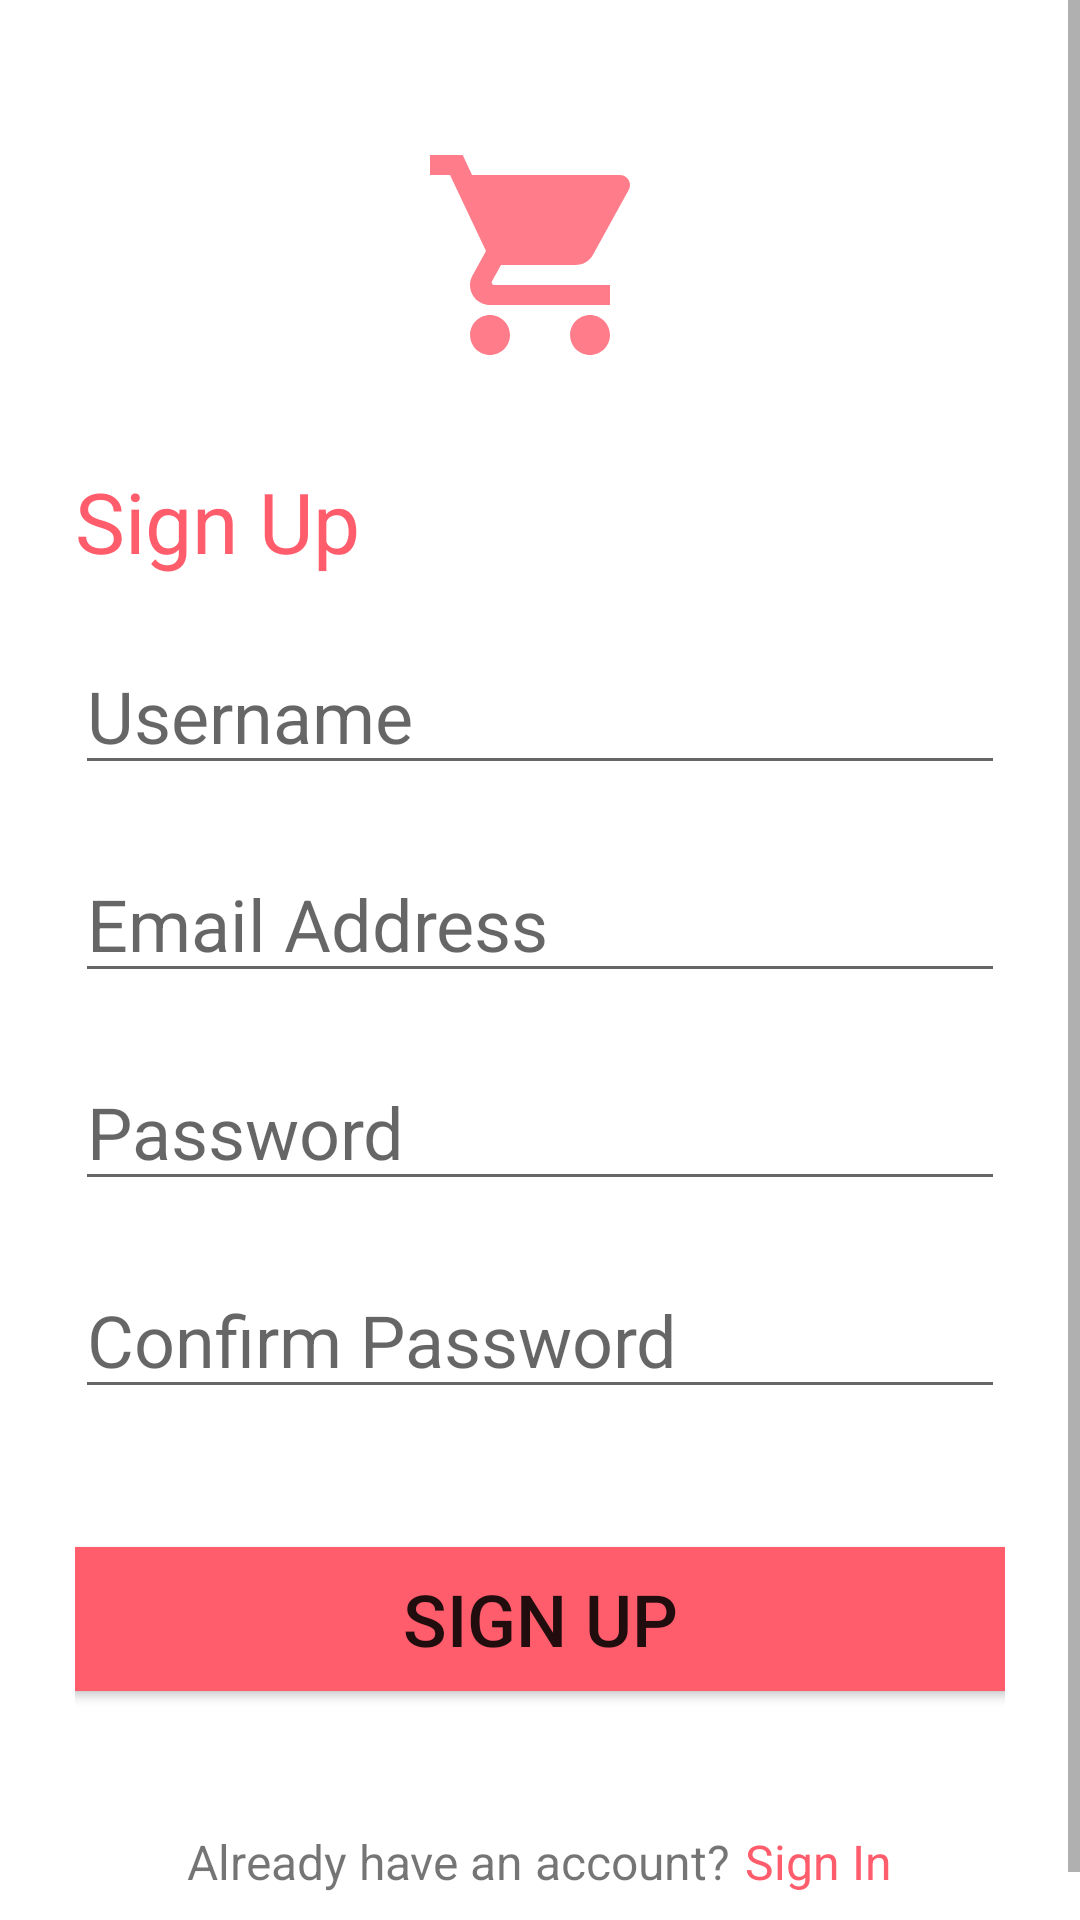

Screen size 1080x1920. Icon name, then its box in pixels as (x1, y1, x2, y2):
cart: (430, 155, 630, 355)
